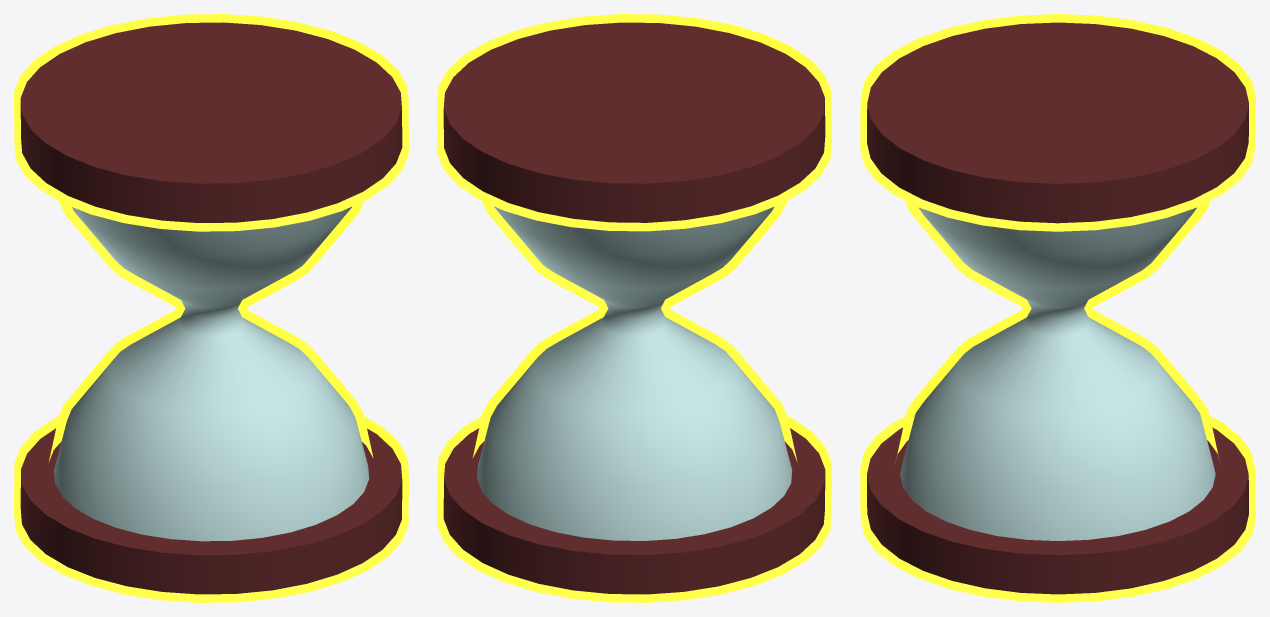
File: hourglass.glb
3 renders of one model, left to right at view 1: azimuth 30°, elevation 25°; view 2: azimuth 150°, elevation 25°; view 3: azimuth 270°, elevation 25°, orthographic.
Visible parts, largest first — view 1: Hourglass, HourglassHighlight; view 2: Hourglass, HourglassHighlight; view 3: Hourglass, HourglassHighlight.
Part boxes in pixels (left/top/right/bottom): Hourglass: left=20, top=22, right=402, bottom=594; HourglassHighlight: left=14, top=14, right=408, bottom=602; Hourglass: left=443, top=22, right=825, bottom=594; HourglassHighlight: left=437, top=14, right=831, bottom=602; Hourglass: left=867, top=22, right=1248, bottom=594; HourglassHighlight: left=860, top=14, right=1255, bottom=602.
Bounding box in the file's own units: 0.2159 × 0.2543 × 0.2161.
